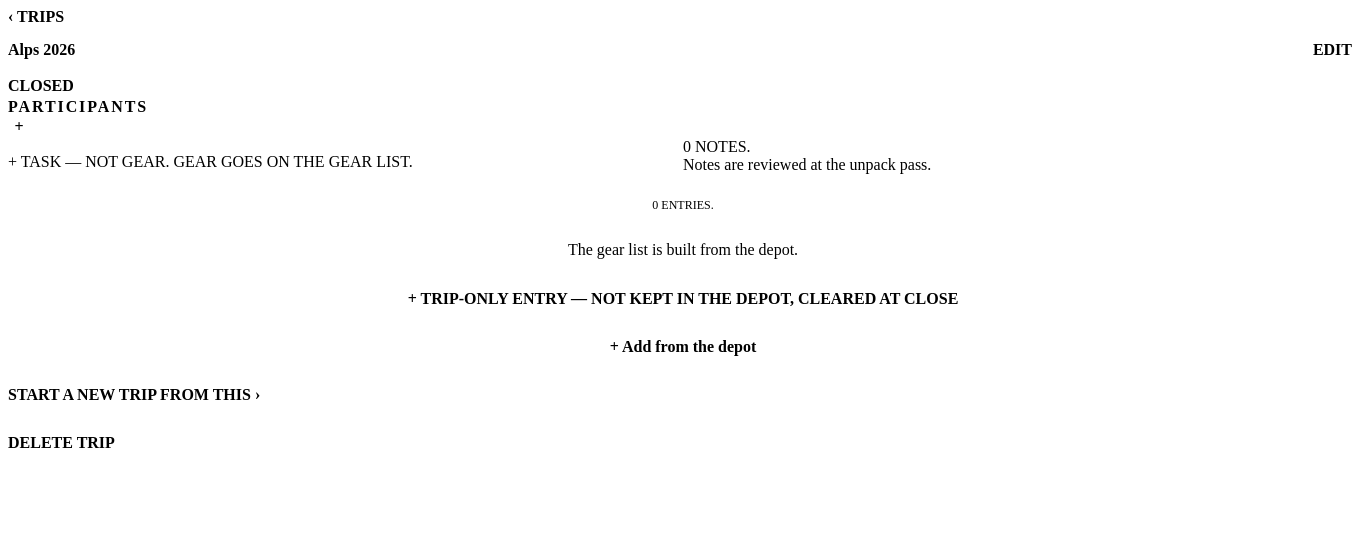
the trip screen — the TASKS panel › stays live on a closed Trip, unlike F5s frozen outcomes
Click the button "+ TASK — NOT GEAR. GEAR GOES ON THE GEAR LIST.": (346, 162) [8,138,683,186]
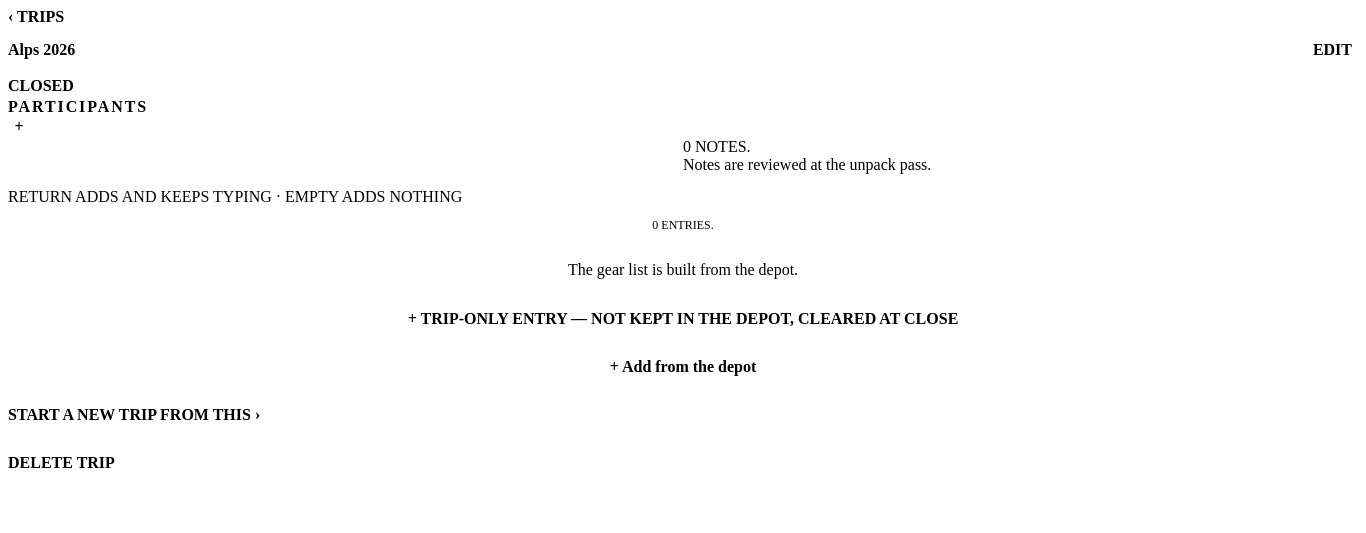
In the field named "Add a pre-trip task": (346, 163) [8,138,683,188], type "Return the borrowed axe"
Then press Enter
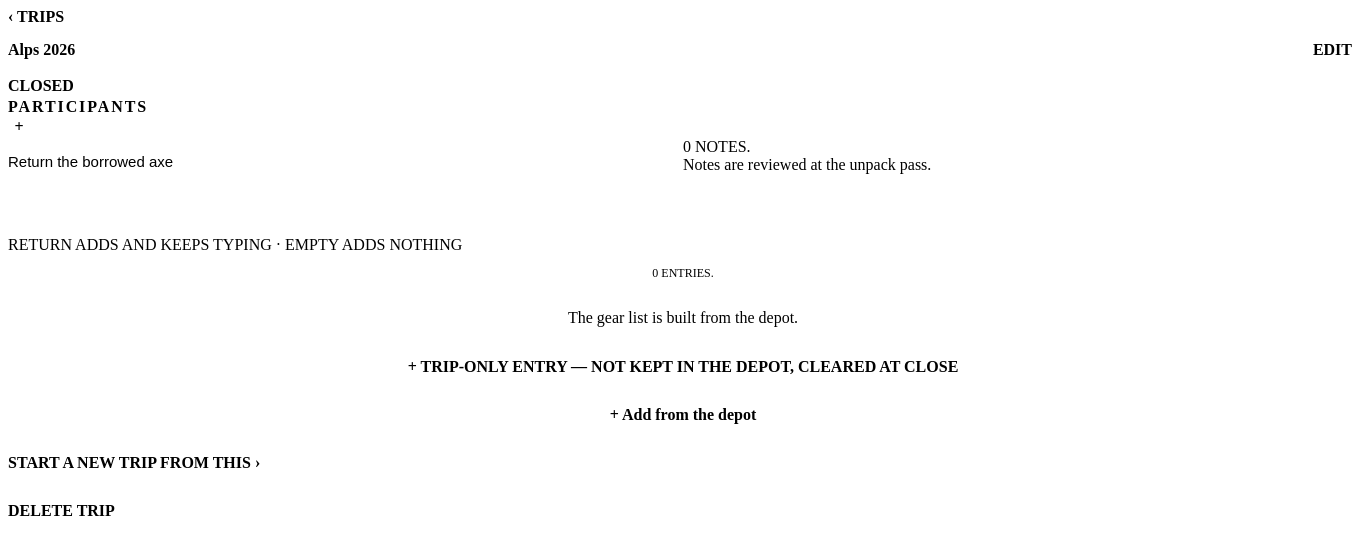
Expected: the button with aria-label "Return the borrowed axe, not ticked" is shown, [8,138,683,186]
